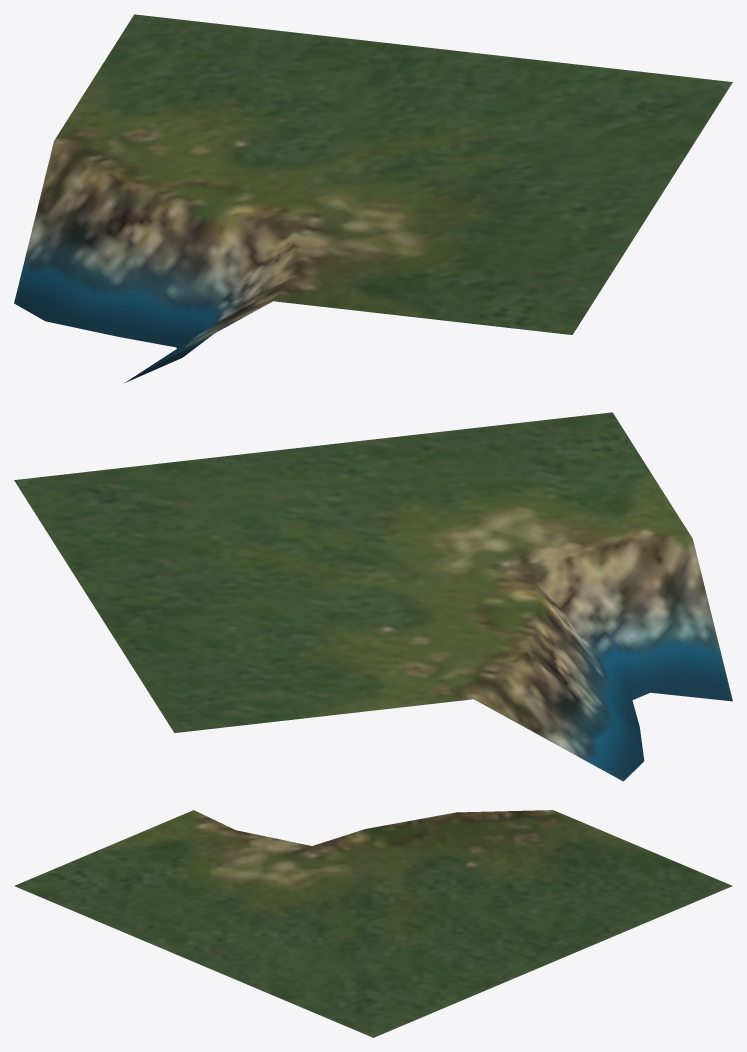
Rendered from Terrain@180.FBX.
3 renders of one model, top to bottom at view 1: azimuth 30°, elevation 25°; view 2: azimuth 150°, elevation 25°; view 3: azimuth 270°, elevation 25°, orthographic. The views are drawn at different scales.
Parts seen in each view (by area): view 1: Terrain@180; view 2: Terrain@180; view 3: Terrain@180.
Boxes of the visible parts, x1,y1,x2,y2 form: Terrain@180: [14, 14, 732, 382]; Terrain@180: [14, 412, 732, 781]; Terrain@180: [14, 810, 732, 1037].
Size of the model in its own units: 124 by 17.68 by 141.
